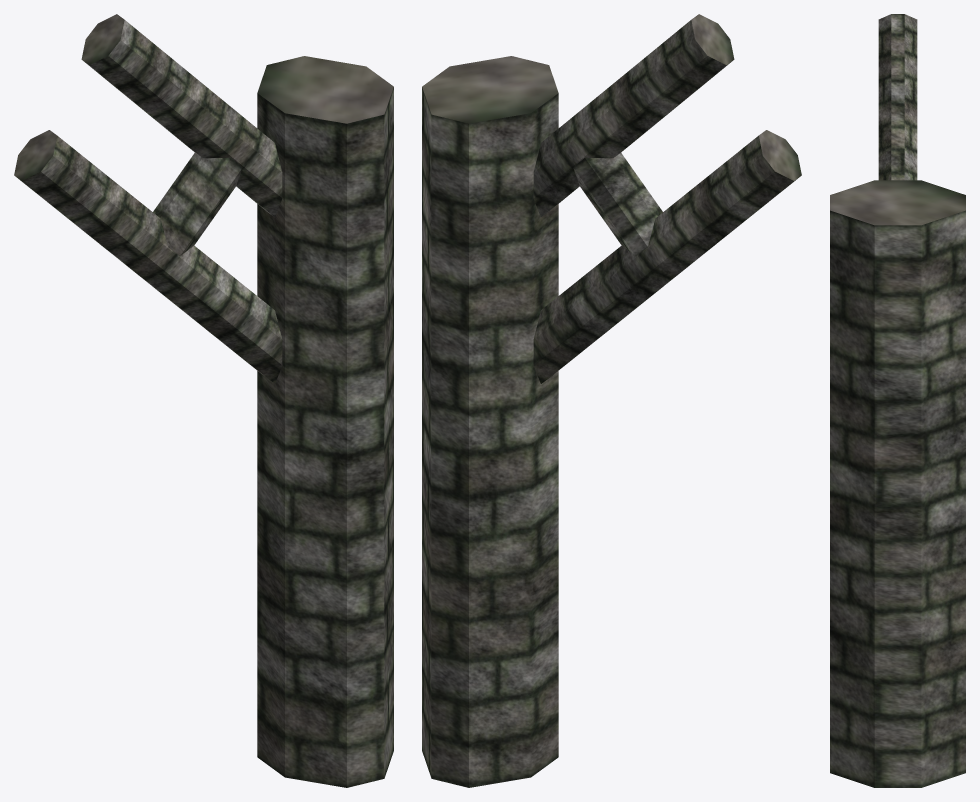
Rendered from PlataformaLateral.fbx.
3 renders of one model, left to right at view 1: azimuth 30°, elevation 25°; view 2: azimuth 150°, elevation 25°; view 3: azimuth 270°, elevation 25°, orthographic. The views are drawn at different scales.
Visible parts, largest first — view 1: Cube.087; view 2: Cube.087; view 3: Cube.087.
Boxes of the visible parts, bbox=[...] form: Cube.087: bbox=[14, 14, 393, 787]; Cube.087: bbox=[422, 14, 801, 787]; Cube.087: bbox=[830, 14, 965, 787].
Size of the model in its own units: 355 by 737 by 136.
